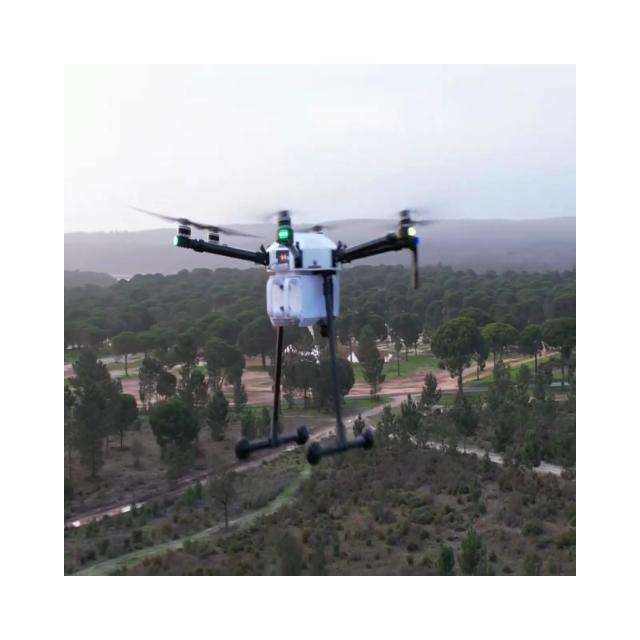drone: (128, 202, 436, 466)
